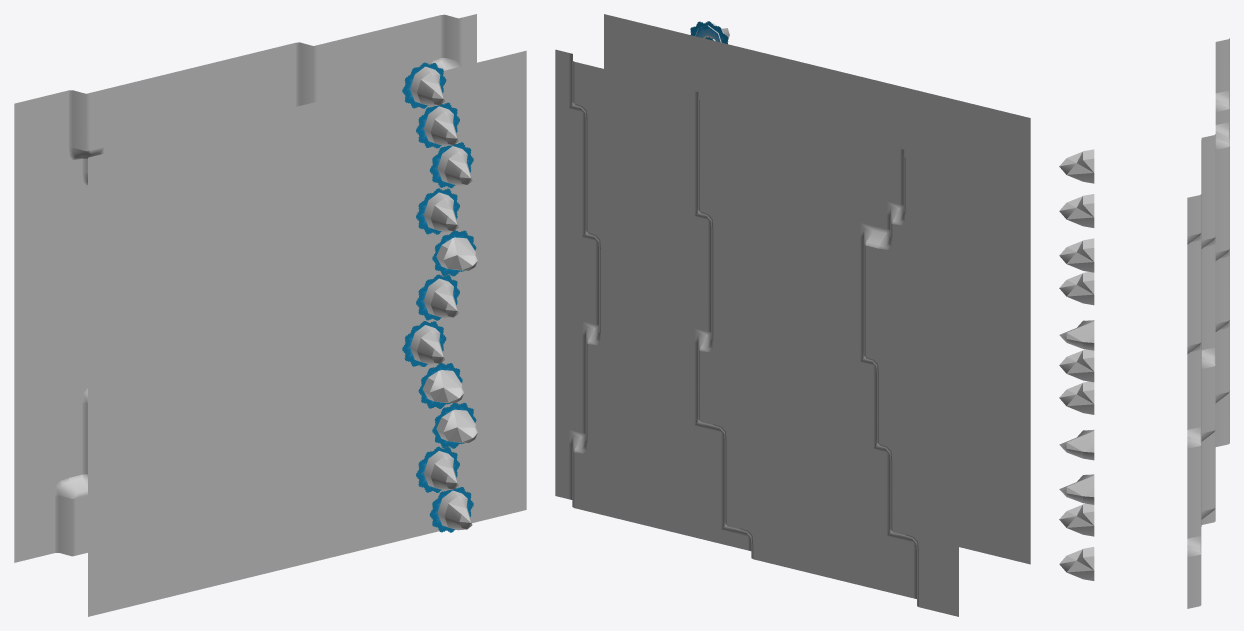
File: Asteria_00_10.obj
The picture shows the model from 3 angles, left to right: view 1: azimuth 30°, elevation 25°; view 2: azimuth 150°, elevation 25°; view 3: azimuth 270°, elevation 25°; orthographic projection. The views are drawn at different scales.
Visible parts, largest first — view 1: map; view 2: map; view 3: map.
Boxes of the visible parts, bbox=[...] form: map: bbox=[14, 14, 526, 616]; map: bbox=[555, 14, 1030, 616]; map: bbox=[1059, 38, 1229, 608].
Bounding box in the file's own units: 32 × 33.22 × 12.04.
